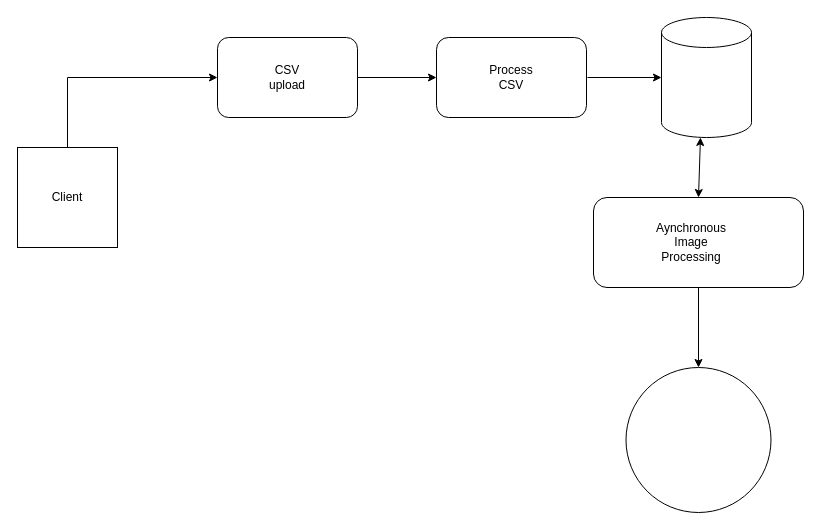
This 821x530 diagram has some shape labels left out. The centre of each missing label's shape, as x and y in pixels:
"Webhook Notification" goes at pixel 698 439.
"Write DB" goes at pixel 706 77.
